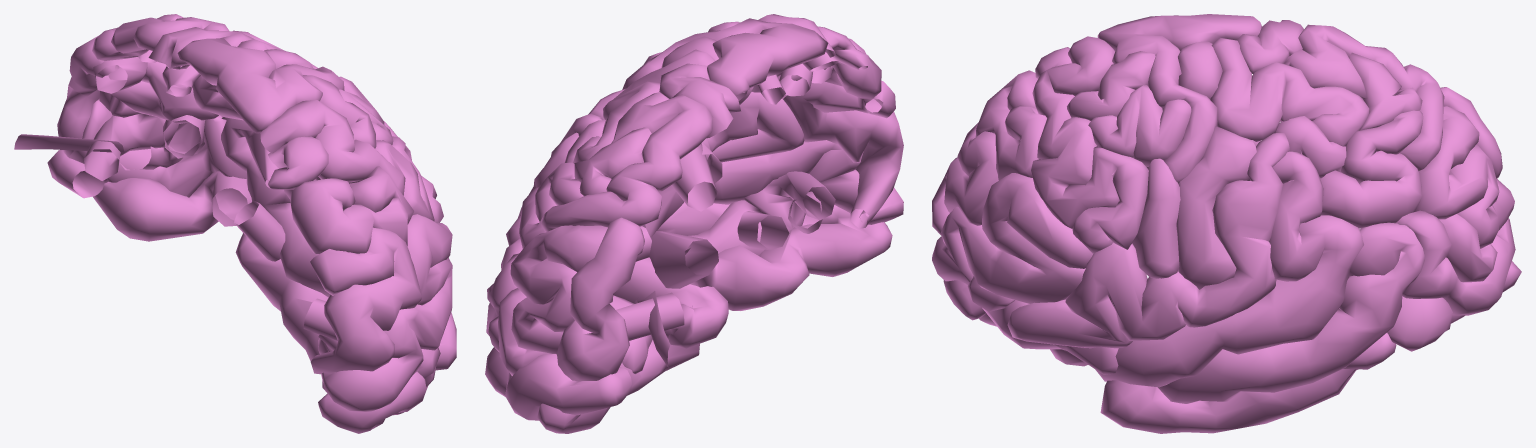
Rendered from brain.gltf.
3 views of the same model, side by side, from view 1: azimuth 30°, elevation 25°; view 2: azimuth 150°, elevation 25°; view 3: azimuth 270°, elevation 25° (orthographic). The views are drawn at different scales.
Visible parts, largest first — view 1: BRAIN; view 2: BRAIN; view 3: BRAIN.
Part boxes in pixels (box(x1,y1,x2,y2)): BRAIN: box(14, 14, 456, 433); BRAIN: box(485, 14, 903, 433); BRAIN: box(932, 14, 1521, 433).
Size of the model in its own units: 8.95 by 12.26 by 18.49.
